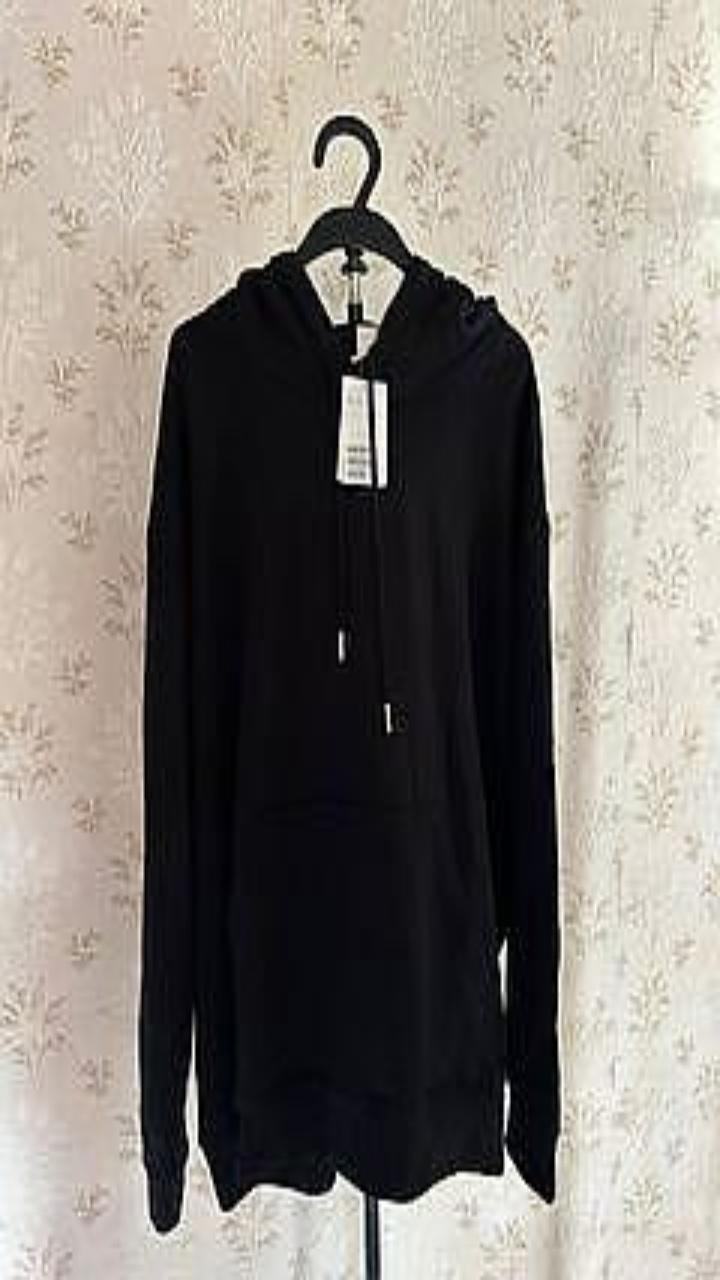Hoodie: (139, 250, 559, 1231)
